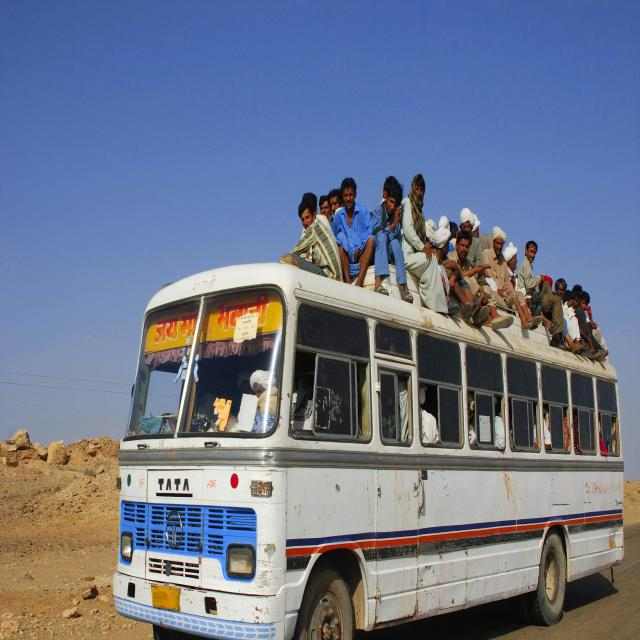bus: (112, 263, 624, 639)
